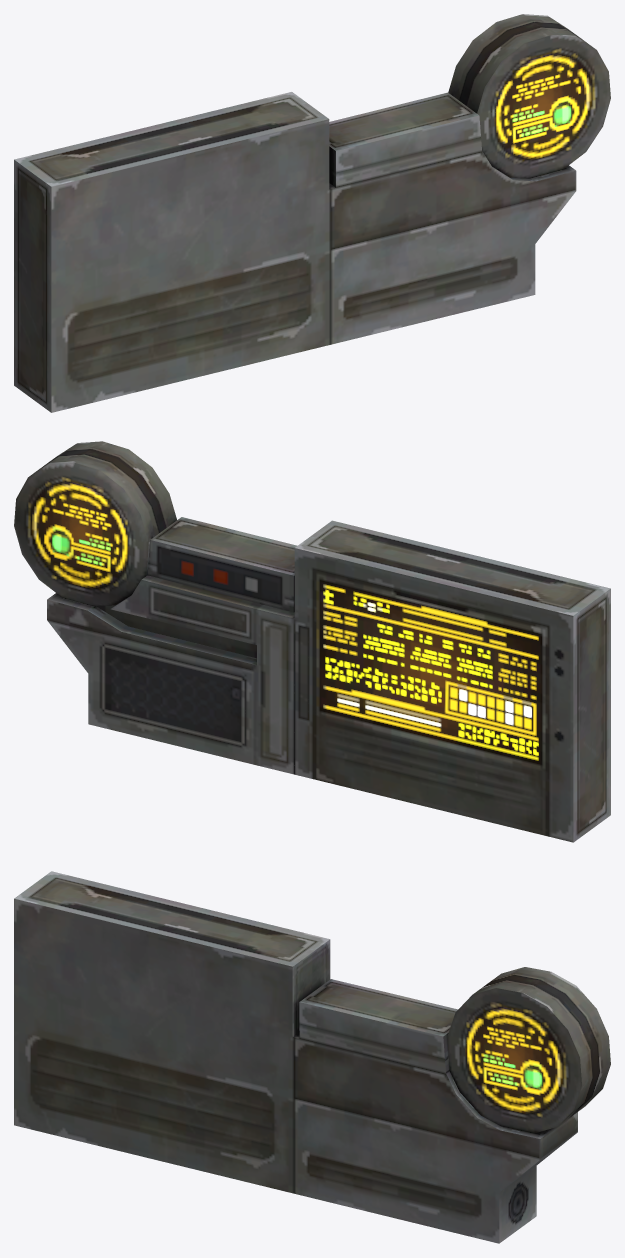
File: all_item_tech_datapad_01.glb
The picture shows the model from 3 angles, top to bottom: view 1: azimuth 30°, elevation 25°; view 2: azimuth 150°, elevation 25°; view 3: azimuth 330°, elevation 25°; orthographic projection.
Parts seen in each view (by area): view 1: all_item_tech_datapad_01; view 2: all_item_tech_datapad_01; view 3: all_item_tech_datapad_01.
Boxes of the visible parts, <box> form: all_item_tech_datapad_01: <box>14,14,610,412</box>; all_item_tech_datapad_01: <box>14,441,610,842</box>; all_item_tech_datapad_01: <box>14,871,610,1243</box>.
Size of the model in its own units: 0.063 by 0.027 by 0.00725.
Materials: 1 (1 with a texture image).
